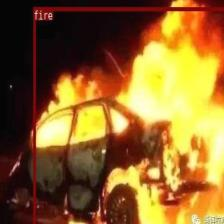fire: (32, 6, 224, 224)
